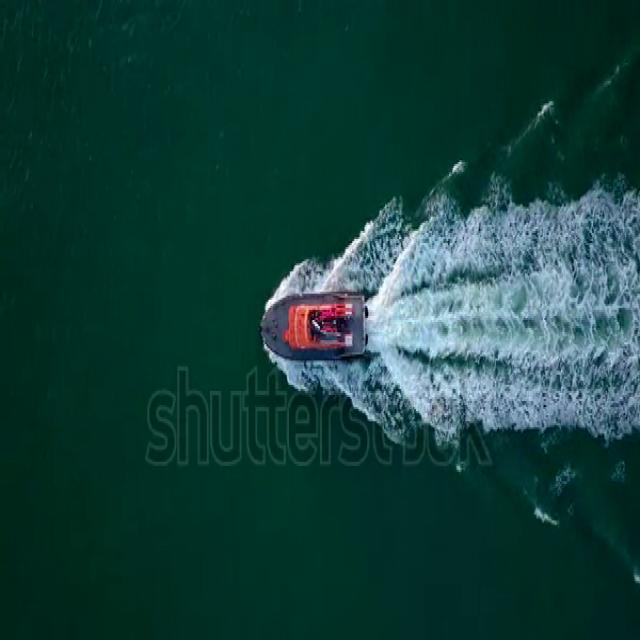ship: (257, 291, 373, 364)
